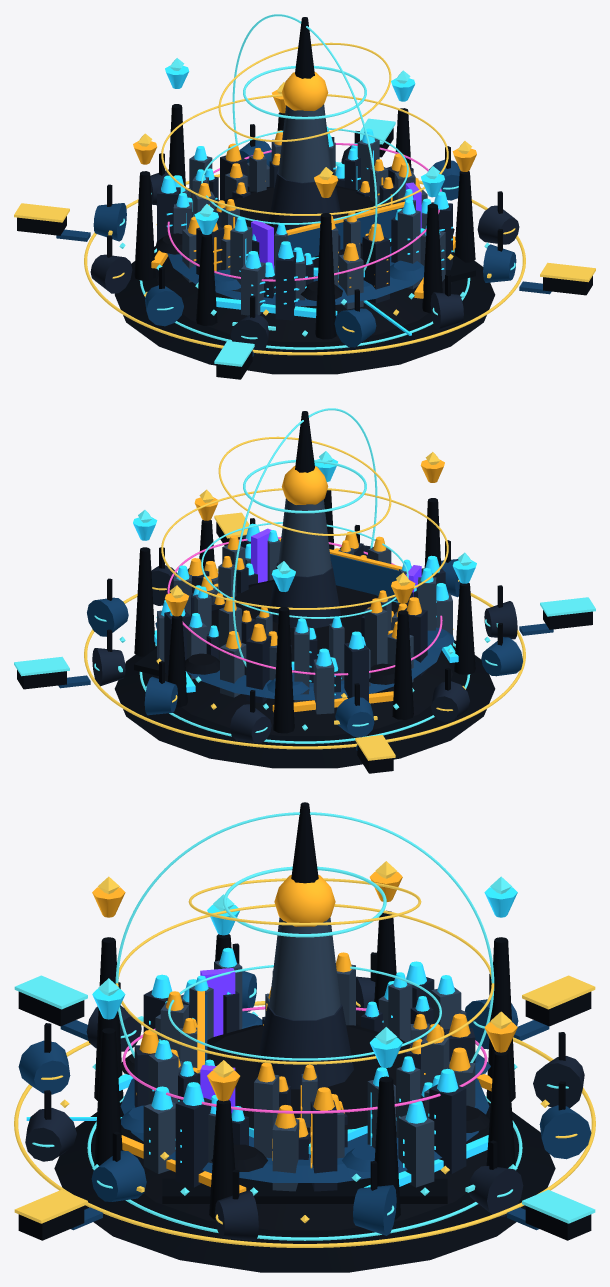
File: citizen-season-1-hub.glb
3 renders of one model, top to bottom at view 1: azimuth 30°, elevation 25°; view 2: azimuth 150°, elevation 25°; view 3: azimuth 270°, elevation 25°, orthographic. The views are drawn at different scales.
Visible parts, largest first — view 1: season hub lower city plate, season hub raised civic deck, season hub civic tower mid, season hub civic tower lower, season hub outer habitat ring, season hub skyline spire 2, season hub upper city terrace, season hub skyline spire 4, season hub mid city terrace, season hub skyline spire 1, season hub vertical city halo b, season hub skyline spire 3 (+47 smaller); view 2: season hub lower city plate, season hub raised civic deck, season hub civic tower mid, season hub upper city terrace, season hub civic tower lower, season hub outer habitat ring, season hub skyline spire 5, season hub grand leaderboard frame, season hub mid city terrace, season hub skyline spire 4, season hub skyline spire 7, season hub vertical city halo b (+45 smaller); view 3: season hub lower city plate, season hub civic tower mid, season hub upper city terrace, season hub raised civic deck, season hub civic tower lower, season hub ceremonial runway, season hub outer habitat ring, season hub mid city terrace, season hub skyline spire 1, season hub district 7 block 2 tower, season hub district 1 block 2 tower, season hub vertical city halo b (+59 smaller).
Boxes of the visible parts, x1=… form: season hub lower city plate: x1=114, y1=246, x2=495, y2=374; season hub raised civic deck: x1=157, y1=257, x2=451, y2=341; season hub civic tower mid: x1=278, y1=104, x2=331, y2=182; season hub civic tower lower: x1=269, y1=167, x2=341, y2=230; season hub outer habitat ring: x1=84, y1=168, x2=525, y2=355; season hub skyline spire 2: x1=315, y1=213, x2=336, y2=339; season hub upper city terrace: x1=215, y1=186, x2=391, y2=267; season hub skyline spire 4: x1=134, y1=171, x2=155, y2=280; season hub mid city terrace: x1=167, y1=246, x2=423, y2=305; season hub skyline spire 1: x1=422, y1=203, x2=442, y2=313; season hub vertical city halo b: x1=161, y1=94, x2=448, y2=215; season hub skyline spire 3: x1=196, y1=234, x2=217, y2=325; season hub lower city plate: x1=114, y1=640, x2=495, y2=768; season hub raised civic deck: x1=158, y1=651, x2=452, y2=735; season hub civic tower mid: x1=278, y1=498, x2=331, y2=576; season hub upper city terrace: x1=211, y1=580, x2=398, y2=661; season hub civic tower lower: x1=268, y1=561, x2=340, y2=628; season hub outer habitat ring: x1=84, y1=568, x2=525, y2=749; season hub skyline spire 5: x1=273, y1=607, x2=294, y2=733; season hub grand leaderboard frame: x1=330, y1=554, x2=399, y2=601; season hub mid city terrace: x1=186, y1=647, x2=442, y2=699; season hub skyline spire 4: x1=392, y1=610, x2=413, y2=719; season hub skyline spire 7: x1=134, y1=547, x2=155, y2=656; season hub vertical city halo b: x1=161, y1=488, x2=448, y2=609; season hub lower city plate: x1=54, y1=1101, x2=555, y2=1272; season hub civic tower mid: x1=269, y1=917, x2=340, y2=1020; season hub upper city terrace: x1=207, y1=1025, x2=420, y2=1132; season hub raised civic deck: x1=121, y1=1124, x2=489, y2=1230; season hub civic tower lower: x1=256, y1=1004, x2=353, y2=1089; season hub ceremonial runway: x1=162, y1=1178, x2=447, y2=1203; season hub outer habitat ring: x1=14, y1=1001, x2=595, y2=1247; season hub mid city terrace: x1=120, y1=1078, x2=489, y2=1182; season hub skyline spire 1: x1=94, y1=1028, x2=122, y2=1165; season hub district 7 block 2 tower: x1=429, y1=1084, x2=466, y2=1173; season hub district 1 block 2 tower: x1=175, y1=1097, x2=211, y2=1187; season hub vertical city halo b: x1=116, y1=904, x2=494, y2=1064.
Size of the model in its own units: 1672 by 1155 by 1672.
